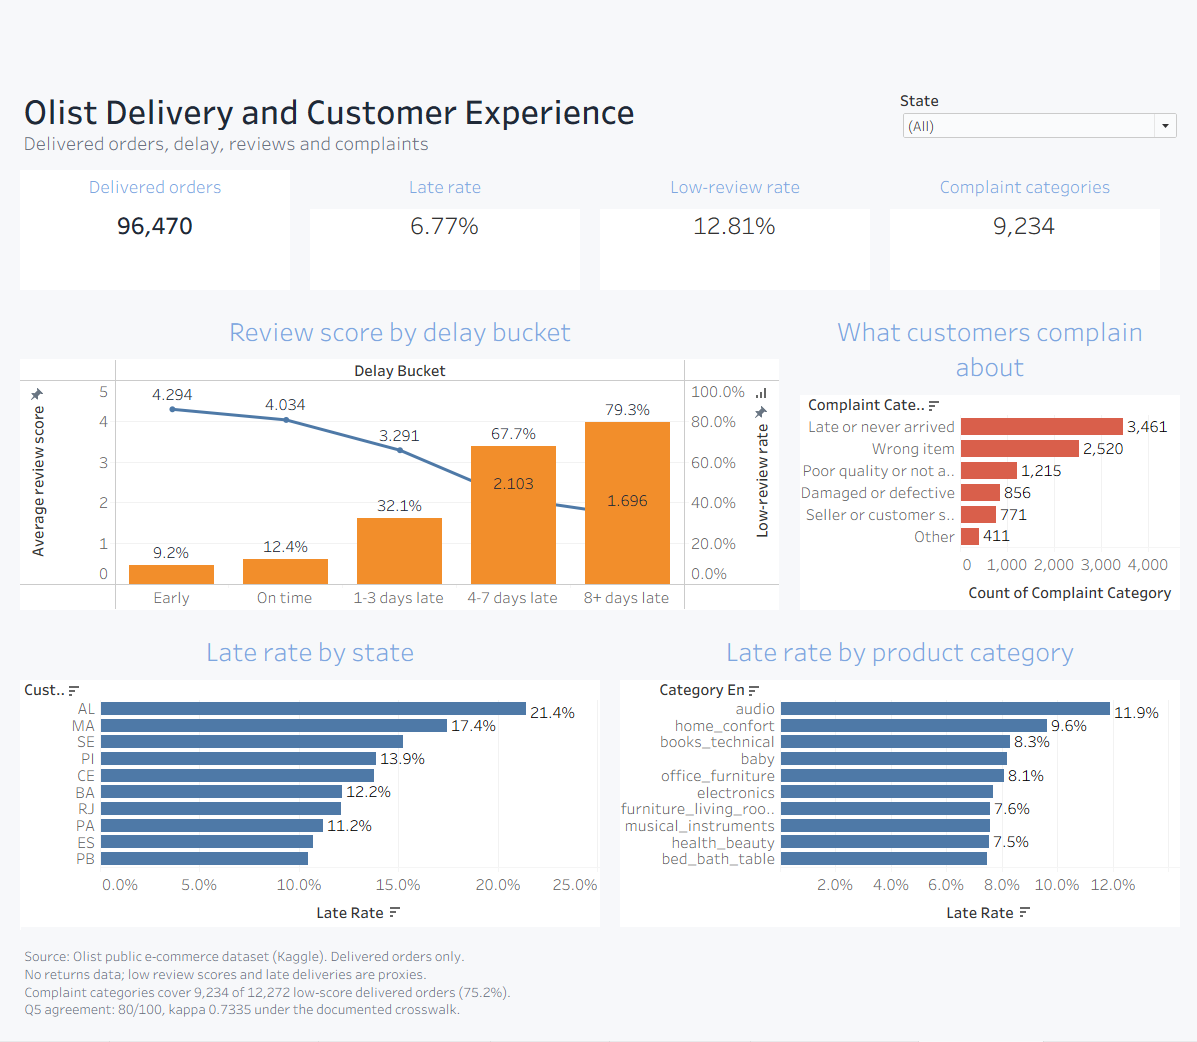

Layout of this report page (visuals, bound fields, positions):
{"tool":"tableau","page":{"name":"Dashboard 1","canvas":[1200,900],"ordinal":0},"visuals":[{"type":"text","box":[20,20,850,40]},{"type":"filter","title":"Review score by delay","param":"[federated.173qfux0qbq9h10zon6nm0r9yw1x].[none:customer_state:nk]","box":[900,20,280,49]},{"type":"text","box":[20,60,850,25]},{"type":"worksheet","title":"KPI - Delivered Orders","mark":"Text","box":[20,100,270,120]},{"type":"worksheet","title":"KPI - Late Rate","mark":"Text","box":[310,100,270,120]},{"type":"worksheet","title":"KPI - Low Review Rate","mark":"Text","box":[600,100,270,120]},{"type":"worksheet","title":"KPI - Complaint Categories","mark":"Text","box":[890,100,270,120]},{"type":"worksheet","title":"Review score by delay","mark":"Line","rows":["review_score","Calculation_1508596951916548"],"cols":["Calculation_1508596951273472"],"box":[20,240,760,300]},{"type":"worksheet","title":"Complaint mix","mark":"Automatic","rows":["complaint_category"],"cols":["complaint_category"],"box":[800,240,380,300]},{"type":"worksheet","title":"Late rate by state","mark":"Automatic","rows":["customer_state"],"cols":["Calculation_1508596952059909"],"box":[20,560,580,300]},{"type":"worksheet","title":"Late rate by category","mark":"Automatic","rows":["category_en"],"cols":["Calculation_1508596952059909"],"box":[620,560,560,300]}]}

Visuals, with their boxes on the page's 1200x900 design canvas (x1, y1, x2, y2). These are canvas units, not pixel positions in the 1197x1042 screenshot, which may show the page scaled, cropped or inside an application window:
text: (x1=20, y1=20, x2=870, y2=60)
"Review score by delay" filter: (x1=900, y1=20, x2=1180, y2=69)
text: (x1=20, y1=60, x2=870, y2=85)
"KPI - Delivered Orders" worksheet (Text marks): (x1=20, y1=100, x2=290, y2=220)
"KPI - Late Rate" worksheet (Text marks): (x1=310, y1=100, x2=580, y2=220)
"KPI - Low Review Rate" worksheet (Text marks): (x1=600, y1=100, x2=870, y2=220)
"KPI - Complaint Categories" worksheet (Text marks): (x1=890, y1=100, x2=1160, y2=220)
"Review score by delay" worksheet (Line marks): (x1=20, y1=240, x2=780, y2=540)
"Complaint mix" worksheet: (x1=800, y1=240, x2=1180, y2=540)
"Late rate by state" worksheet: (x1=20, y1=560, x2=600, y2=860)
"Late rate by category" worksheet: (x1=620, y1=560, x2=1180, y2=860)
